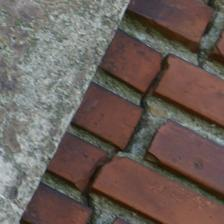Crack: (85, 54, 172, 218)
